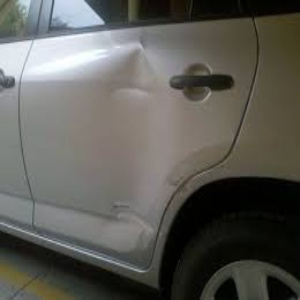door: (50, 40, 172, 112)
